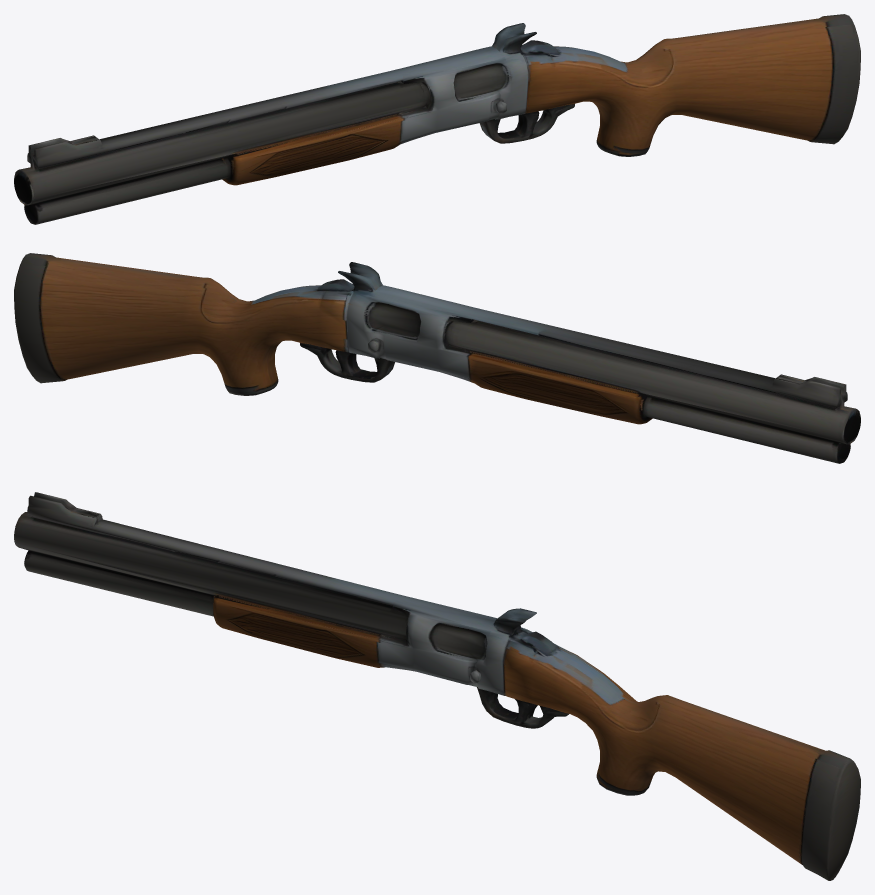
The model's file is shotgun_6d14294c_v3.glb.
3 views of the same model, one above another, from view 1: azimuth 30°, elevation 25°; view 2: azimuth 150°, elevation 25°; view 3: azimuth 330°, elevation 25° (orthographic).
Visible parts, largest first — view 1: texture_pbr_20250901; view 2: texture_pbr_20250901; view 3: texture_pbr_20250901.
Part boxes in pixels (x1=…): texture_pbr_20250901: x1=14, y1=14, x2=860, y2=224; texture_pbr_20250901: x1=14, y1=253, x2=860, y2=463; texture_pbr_20250901: x1=14, y1=492, x2=860, y2=880.
Bounding box in the file's own units: 1.9 × 0.418 × 0.1211.
Materials: 1 (1 with a texture image).
